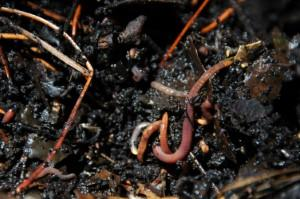earthworms: (5, 5, 274, 186)
